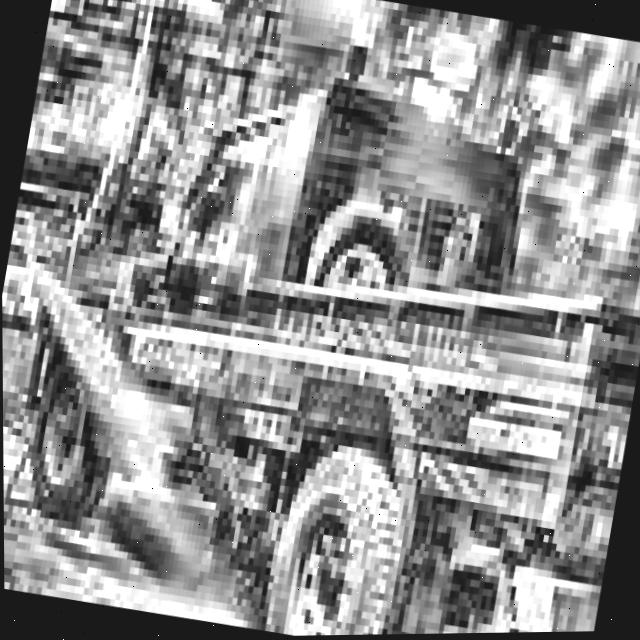light_vehicle: (0, 24, 640, 640)
